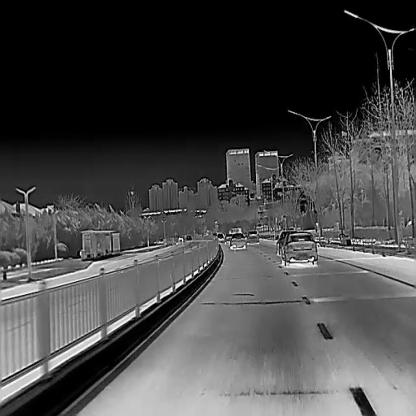car: (279, 231, 318, 264), (274, 230, 298, 253), (229, 232, 247, 250), (246, 229, 259, 245), (224, 233, 233, 244), (218, 232, 223, 242)
